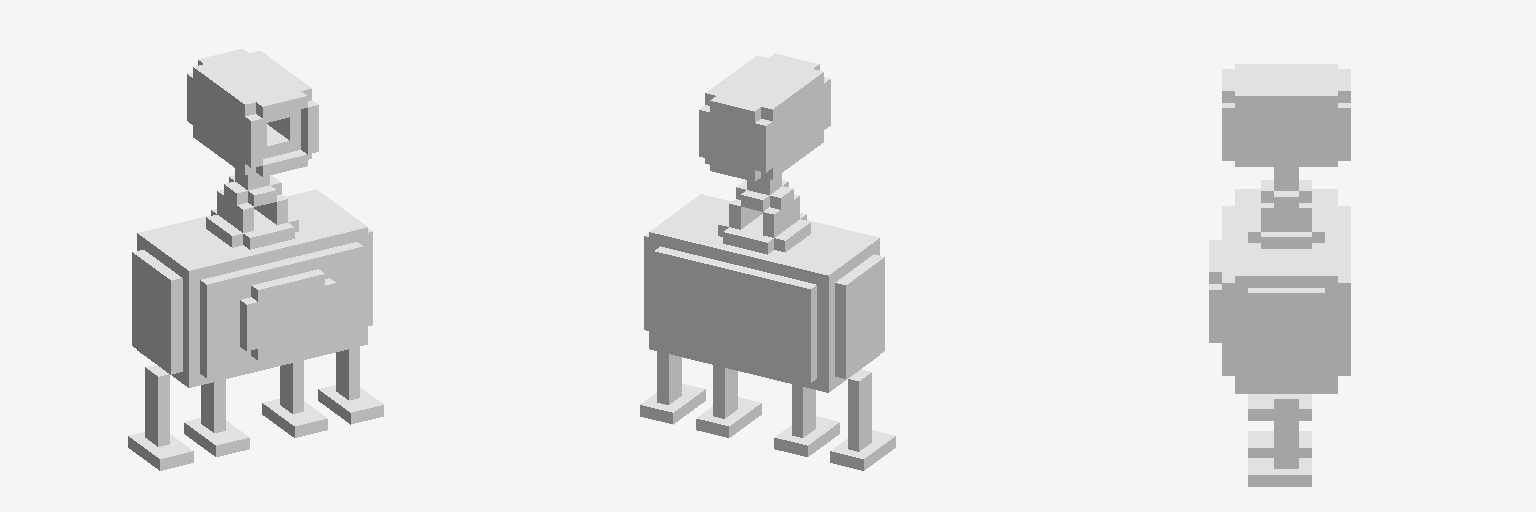
The model's file is bot_2.obj.
3 views of the same model, side by side, from view 1: azimuth 30°, elevation 25°; view 2: azimuth 150°, elevation 25°; view 3: azimuth 270°, elevation 25° (orthographic).
Parts seen in each view (by area): view 1: bot_2; view 2: bot_2; view 3: bot_2.
Part boxes in pixels (x1,y1,x2,y2): bot_2: (128,49,383,470); bot_2: (640,53,895,470); bot_2: (1209,64,1350,486).
Bounding box in the file's own units: 20 × 30 × 11.